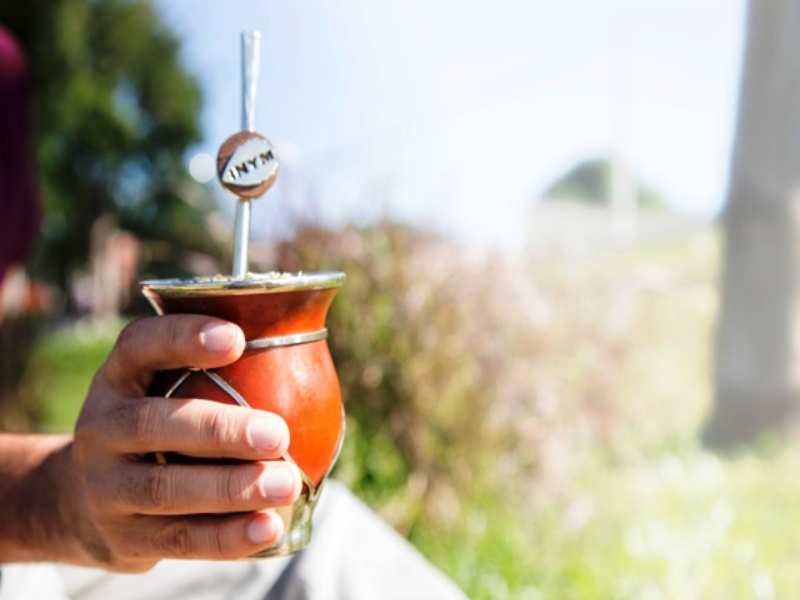guampa: (112, 24, 380, 553)
